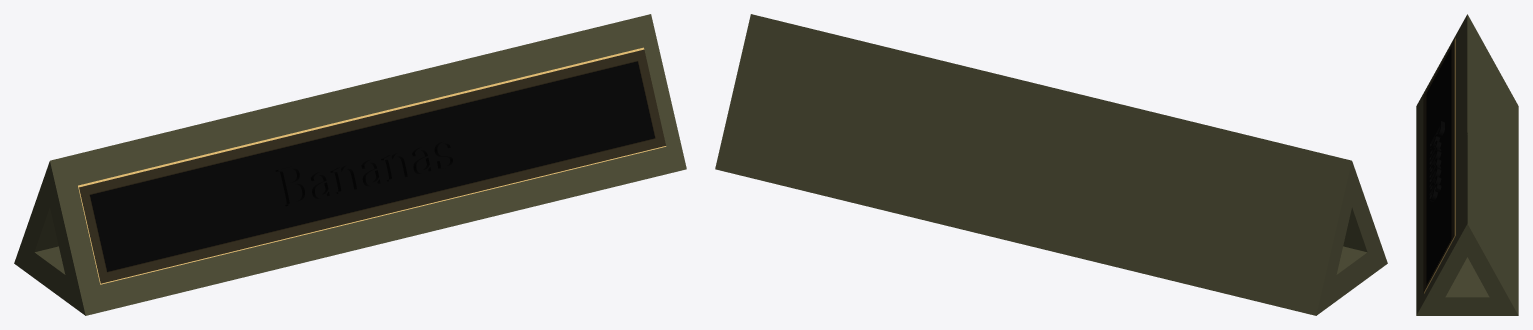
The model's file is Name Tag.FBX.
The picture shows the model from 3 angles, left to right: view 1: azimuth 30°, elevation 25°; view 2: azimuth 150°, elevation 25°; view 3: azimuth 270°, elevation 25°; orthographic projection. The views are drawn at different scales.
Parts seen in each view (by area): view 1: root (×2), node_id4, node_id59; view 2: node_id4; view 3: node_id4, root (×2), node_id59.
Boxes of the visible parts, x1,y1,x2,y2 form: root (×2): [78, 47, 666, 284]; node_id4: [14, 14, 686, 315]; node_id59: [275, 141, 455, 206]; node_id4: [715, 14, 1387, 315]; node_id4: [1416, 14, 1518, 315]; root (×2): [1423, 38, 1455, 293]; node_id59: [1429, 121, 1444, 201].
Size of the model in its own units: 0.512 by 0.105 by 0.1057.
Materials: 4 (3 with a texture image).
